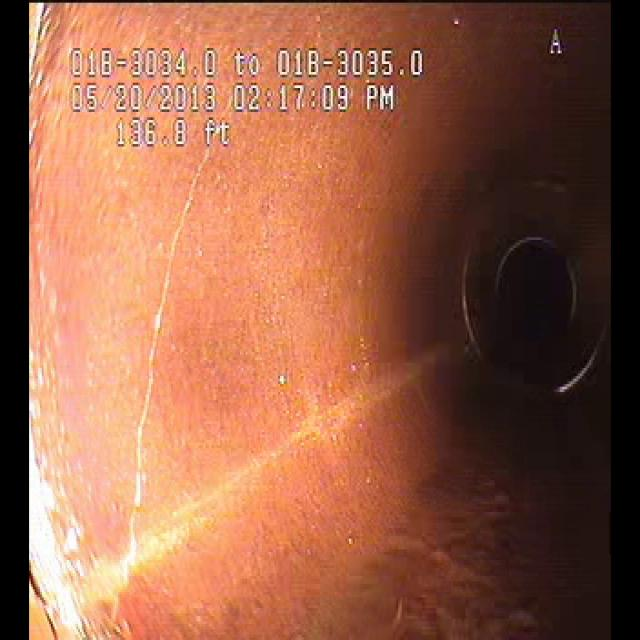Crack: (104, 166, 220, 582)
